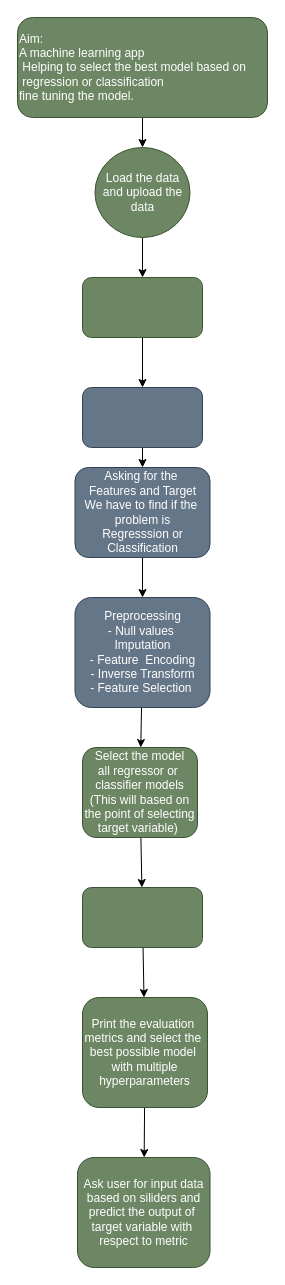
This 285x1285 diagram has some shape labels left out. Here are the shapes that lost their labels. From the top down, the box of each, then its label:
(82, 276, 202, 338): Example Data button
(82, 386, 202, 448): Check the column names and data types
(82, 886, 202, 948): Add the evalution metrics on the problem
